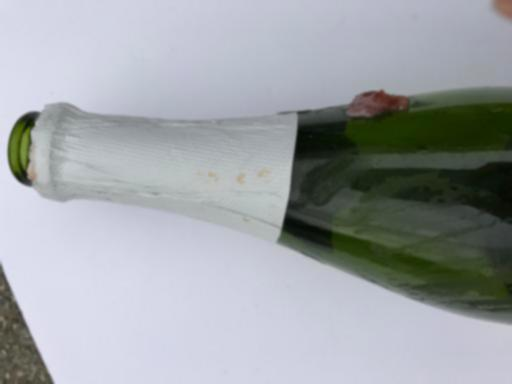alcohol: (7, 89, 511, 328)
glass: (7, 89, 511, 328)
sodocalcique: (7, 89, 511, 328)
